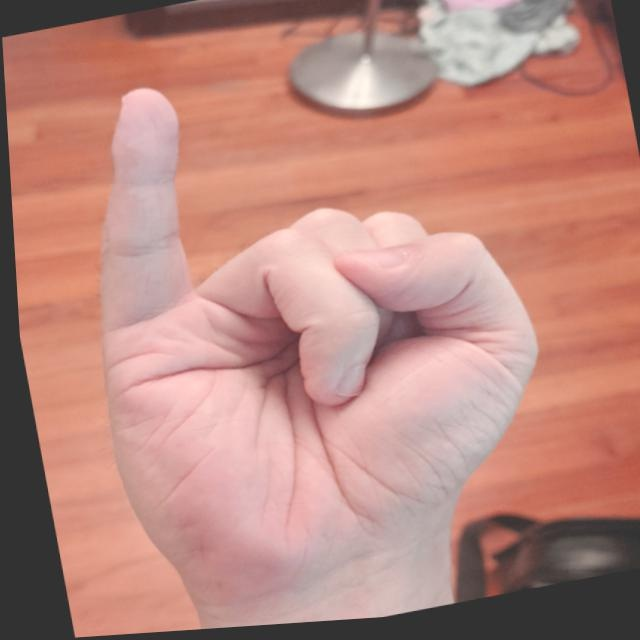I: (31, 15, 583, 637)
